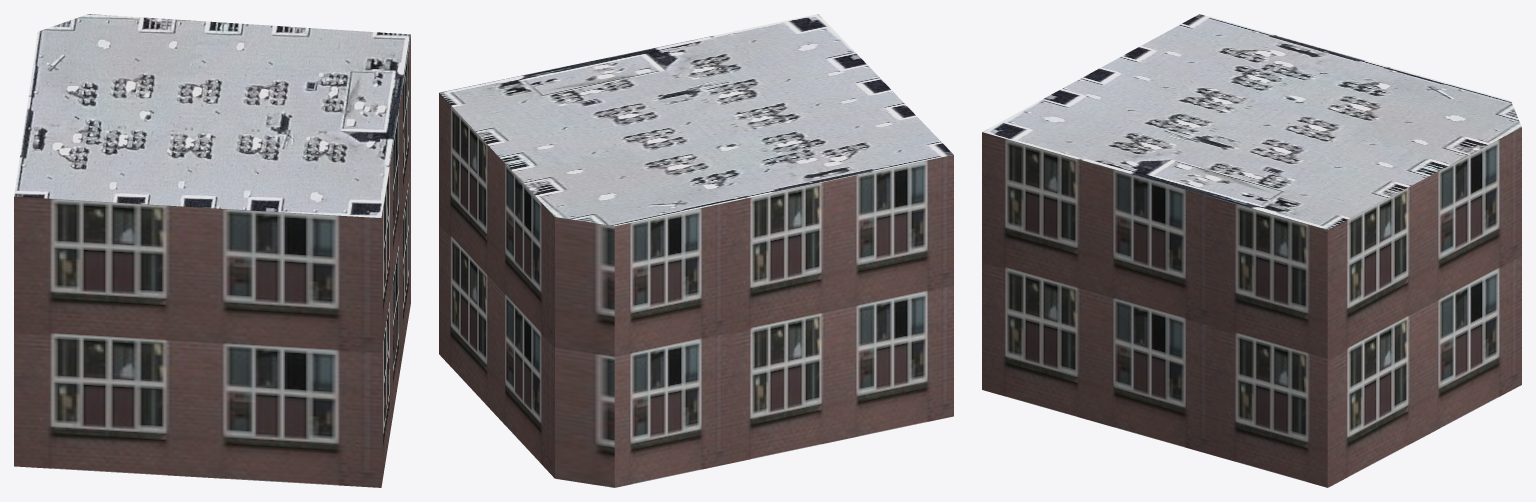
Rendered from ResTex__3373.fbx.
The picture shows the model from 3 angles, left to right: view 1: azimuth 30°, elevation 25°; view 2: azimuth 150°, elevation 25°; view 3: azimuth 270°, elevation 25°; orthographic projection. The views are drawn at different scales.
Visible parts, largest first — view 1: CityEngineMaterial_12_m, CityEngineMaterial_m; view 2: CityEngineMaterial_12_m, CityEngineMaterial_m; view 3: CityEngineMaterial_12_m, CityEngineMaterial_m.
Part boxes in pixels (x1,y1,x2,y2): CityEngineMaterial_12_m: [14, 34, 410, 487]; CityEngineMaterial_m: [14, 14, 410, 217]; CityEngineMaterial_12_m: [439, 93, 953, 487]; CityEngineMaterial_m: [439, 14, 953, 226]; CityEngineMaterial_12_m: [982, 127, 1521, 487]; CityEngineMaterial_m: [982, 14, 1521, 229].
Size of the model in its own units: 10.79 by 6 by 11.39.
Materials: 2 (2 with a texture image).
